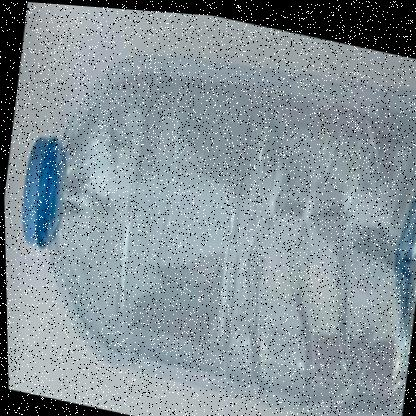bottle cap: (2, 32, 158, 383)
